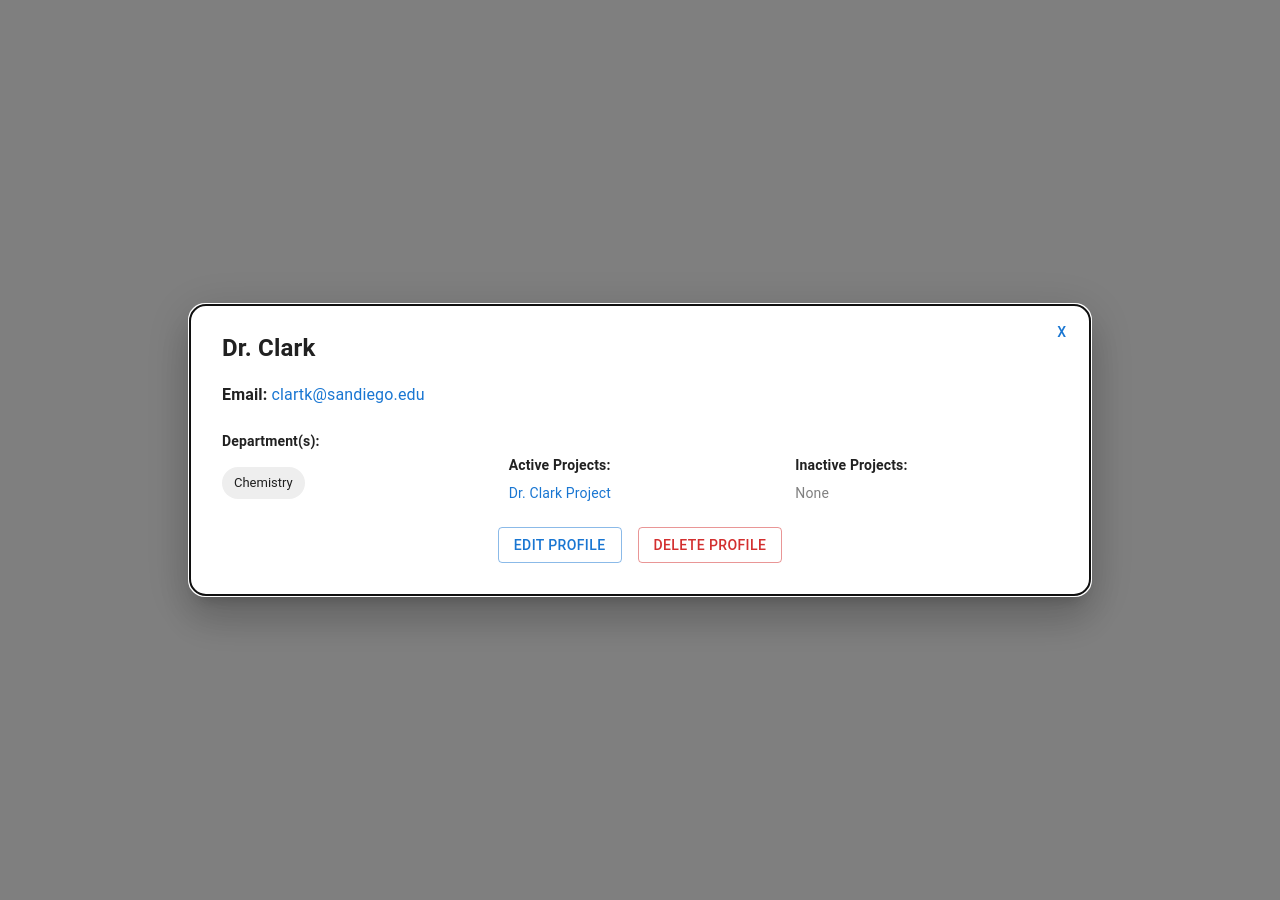
Scenario: PostDialog Component › when user is admin › clicking delete faculty opens "are you sure you want to delete?" popup
Click the button "Delete Profile".
click(710, 545)  # box [638,527,782,564]
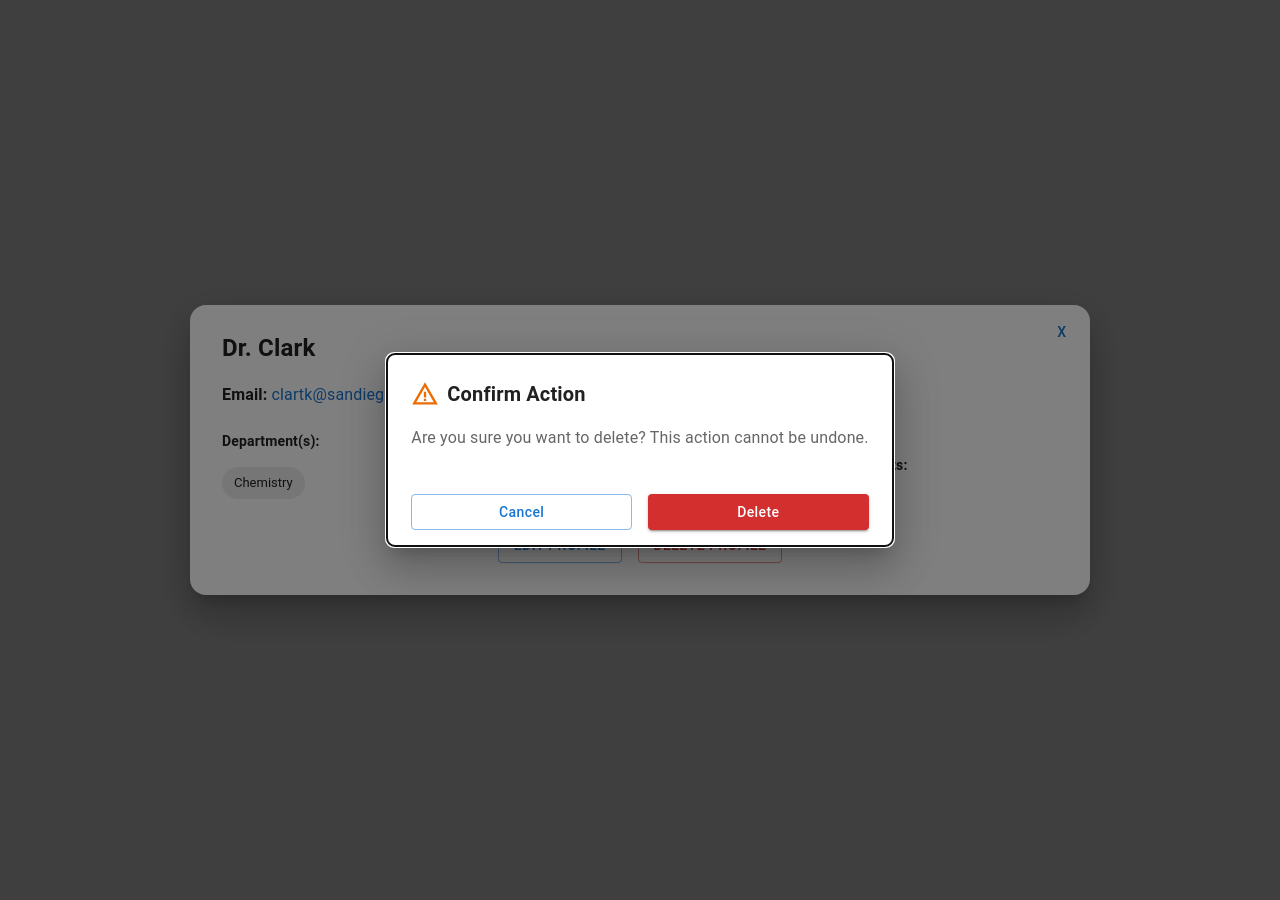
Expected: the text "Are you sure you want to delete?" is shown, [411,426,869,450]
